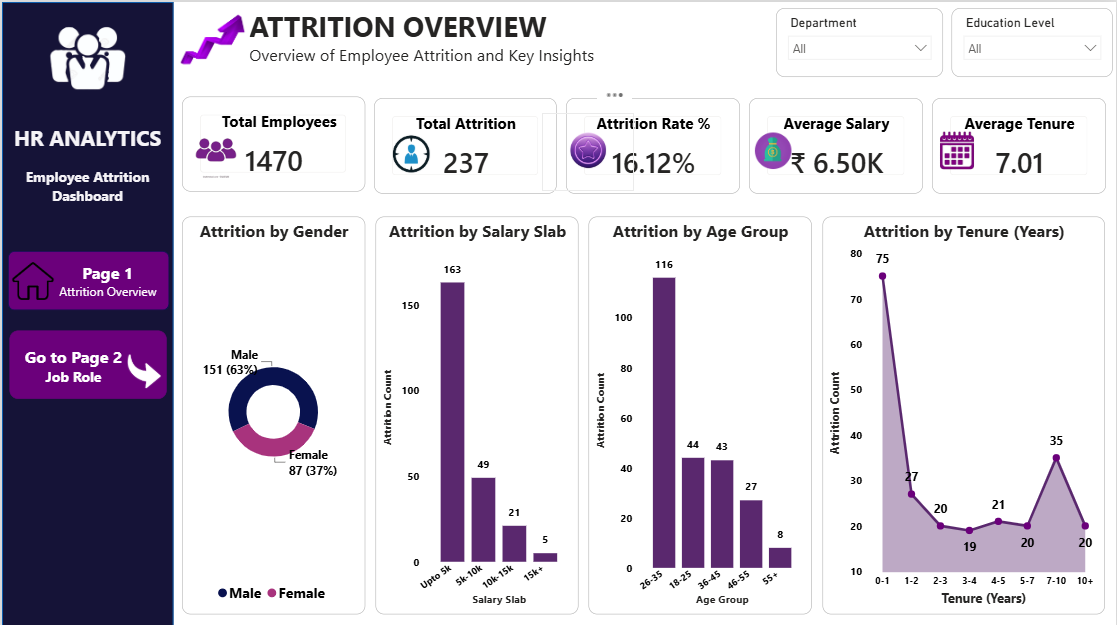

This screenshot's page, from the dashboard's own definition file:
{"tool":"powerbi","page":{"name":"Page 1","canvas":[1280,720],"ordinal":0},"visuals":[{"type":"shape","box":[0,0,197.1,720.6],"z":0},{"type":"image","box":[0,0,197.1,129.2],"z":1000},{"type":"textbox","box":[0,133.9,196.6,116.9],"z":2000},{"type":"textbox","box":[279.9,0,495.3,86.1],"z":3000},{"type":"slicer","fields":{"Values":["HR_Analytics.Department"]},"box":[889.5,6.6,192.2,79.5],"z":4000},{"type":"slicer","fields":{"Values":["HR_Analytics.Education"]},"box":[1091.6,6.6,185.5,79.5],"z":5000},{"type":"cardVisual","title":"Total Employees","fields":{"Data":["HR_Analytics.Total Employees"]},"box":[207.1,109.3,210.4,109.3],"z":6000},{"type":"cardVisual","fields":{"Data":["HR_Analytics.Total Attrition"]},"box":[428.3,110,210,110],"z":7000},{"type":"cardVisual","fields":{"Data":["HR_Analytics.Attrition Rate %"]},"box":[648.3,110,200,110],"z":8000},{"type":"cardVisual","fields":{"Data":["HR_Analytics.Avetrage Salary"]},"box":[858.3,110,200,110],"z":9000},{"type":"cardVisual","fields":{"Data":["HR_Analytics.Average Tenure"]},"box":[1068.3,110,200,110],"z":10000},{"type":"image","box":[188.8,0,104.4,86.1],"z":11000},{"type":"image","box":[208.7,144.1,74.5,58],"z":12000},{"type":"image","box":[430.7,142.5,74.5,61.3],"z":13000},{"type":"image","box":[621.1,127.8,105.6,88.9],"z":14000},{"type":"image","box":[861.7,150,48.3,41.7],"z":15000},{"type":"image","box":[1061.7,140,71.7,66.7],"z":16000},{"type":"donutChart","title":"Attrition by Gender","fields":{"Category":["HR_Analytics.Gender"],"Y":["Sum(HR_Analytics.Attrition Status)"]},"box":[206.8,245.8,210.4,457.2],"z":17000},{"type":"lineClusteredColumnComboChart","title":"Attrition by Salary Slab","fields":{"Category":["HR_Analytics.SalarySlab"],"Y":["Sum(HR_Analytics.Attrition Status)"]},"box":[429,246.8,233.6,457.2],"z":18000},{"type":"lineClusteredColumnComboChart","title":"Attrition by Age Group","fields":{"Category":["HR_Analytics.AgeGroup"],"Y":["Sum(HR_Analytics.Attrition Status)"]},"box":[674.2,246.8,256.8,457.2],"z":19000},{"type":"lineChart","title":"Attrition by Tenure (Years)","fields":{"Category":["HR_Analytics.Tenure Group"],"Y":["HR_Analytics.Total Attrition"]},"box":[942.5,246.8,324.7,457.2],"z":20000},{"type":"shape","box":[6.5,286.3,185.4,68.3],"z":21000},{"type":"image","box":[8.1,292.8,53.7,55.3],"z":22000},{"type":"textbox","box":[35.8,292.8,170.8,61.8],"z":23000},{"type":"actionButton","title":"Go to Page 1 Overview","box":[8.8,377.2,180.7,78.9],"z":23001},{"type":"actionButton","box":[7,377.2,182.5,78.9],"z":23002},{"type":"textbox","box":[19.3,389.5,126.3,70.2],"z":23003},{"type":"image","box":[124.6,405.3,78.9,38.6],"z":23004}]}

Visuals, with their boxes in screenshot pixels (x1, y1, x2, y2), scaled from the page's 1280x720 canvas onto the 1117x625 screenshot:
shape: 0 0 172 624
image: 0 0 172 112
textbox: 0 116 172 218
textbox: 244 0 676 75
slicer - HR_Analytics.Department: 776 6 944 75
slicer - HR_Analytics.Education: 953 6 1114 75
"Total Employees" cardVisual: 181 95 364 190
cardVisual - HR_Analytics.Total Attrition: 374 95 557 191
cardVisual - HR_Analytics.Attrition Rate %: 566 95 740 191
cardVisual - HR_Analytics.Avetrage Salary: 749 95 924 191
cardVisual - HR_Analytics.Average Tenure: 932 95 1107 191
image: 165 0 256 75
image: 182 125 247 175
image: 376 124 441 177
image: 542 111 634 188
image: 752 130 794 166
image: 926 122 989 179
"Attrition by Gender" donutChart: 180 213 364 610
"Attrition by Salary Slab" lineClusteredColumnComboChart: 374 214 578 611
"Attrition by Age Group" lineClusteredColumnComboChart: 588 214 812 611
"Attrition by Tenure (Years)" lineChart: 822 214 1106 611
shape: 6 249 167 308
image: 7 254 54 302
textbox: 31 254 180 308
"Go to Page 1 Overview" actionButton: 8 327 165 396
actionButton: 6 327 165 396
textbox: 17 338 127 399
image: 109 352 178 385
